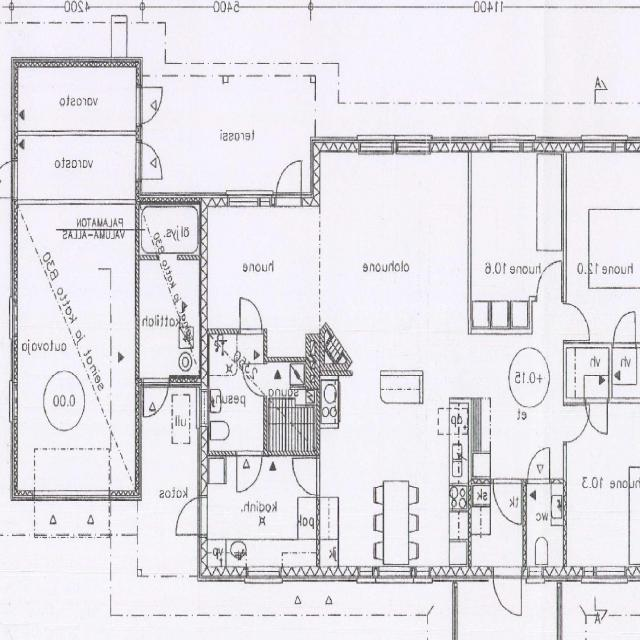door: (494, 567, 522, 623), (276, 152, 302, 205), (494, 478, 522, 525), (174, 497, 208, 533), (136, 86, 167, 124), (144, 376, 168, 424), (136, 142, 167, 179), (237, 450, 262, 492), (292, 457, 320, 494), (537, 260, 561, 302), (564, 405, 590, 441), (564, 304, 590, 340), (614, 310, 636, 348), (586, 398, 608, 436), (528, 445, 550, 483), (240, 295, 262, 333), (242, 364, 266, 396), (0, 160, 18, 197)
